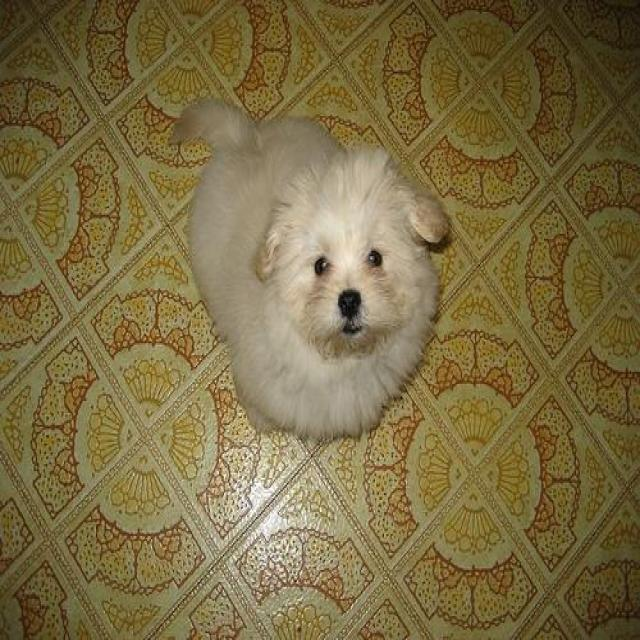sitting: (165, 94, 455, 447)
